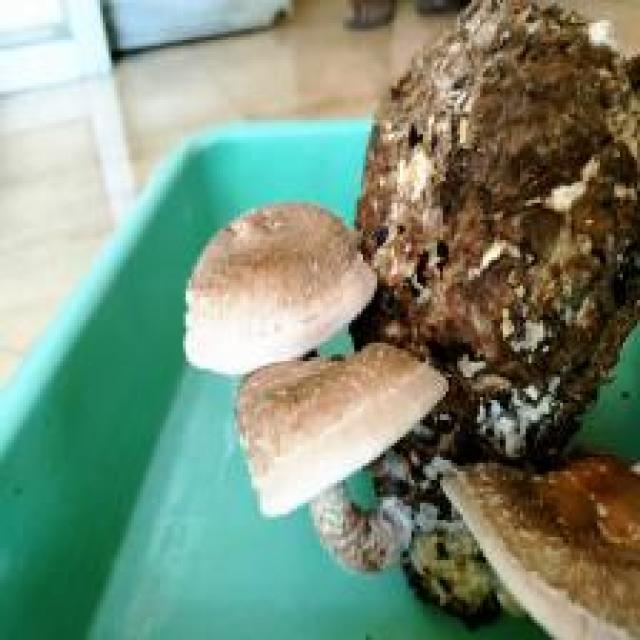field-mushroom: (180, 197, 377, 377)
